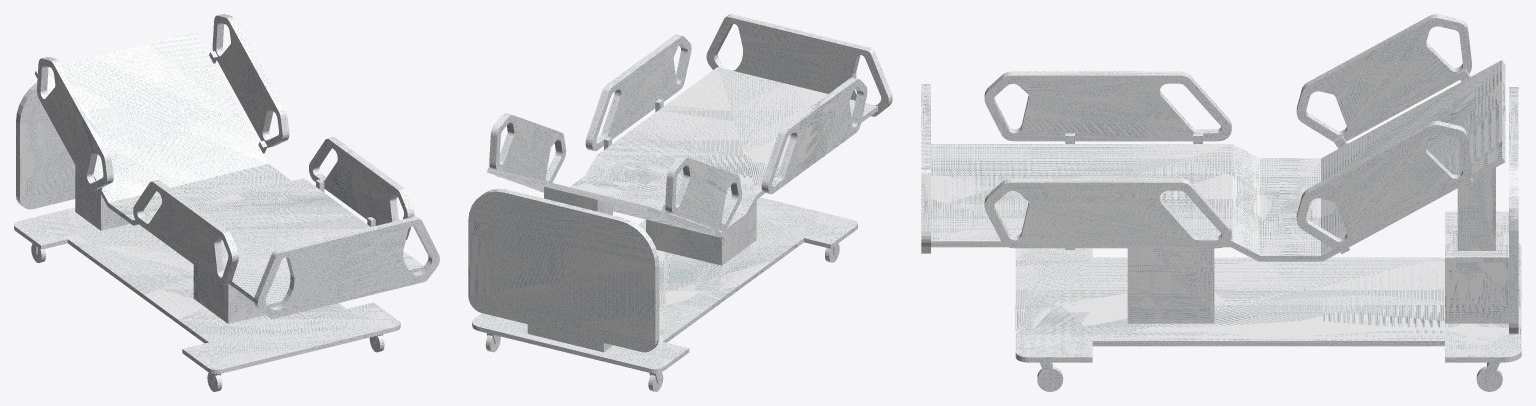
The picture shows the model from 3 angles, left to right: view 1: azimuth 30°, elevation 25°; view 2: azimuth 150°, elevation 25°; view 3: azimuth 270°, elevation 25°; orthographic projection. The views are drawn at different scales.
Visible parts, largest first — view 1: M7007_-_Bed__Patient__Electric__Special_Care (×10); view 2: M7007_-_Bed__Patient__Electric__Special_Care (×12); view 3: M7007_-_Bed__Patient__Electric__Special_Care (×11).
Boxes of the visible parts, box(x1,y1,x2,y2) form: M7007_-_Bed__Patient__Electric__Special_Care (×10): box(14, 14, 439, 373); M7007_-_Bed__Patient__Electric__Special_Care (×12): box(468, 14, 892, 373); M7007_-_Bed__Patient__Electric__Special_Care (×11): box(921, 14, 1521, 362).
Bounding box in the file's own units: 43 × 93.75 × 46.92.
